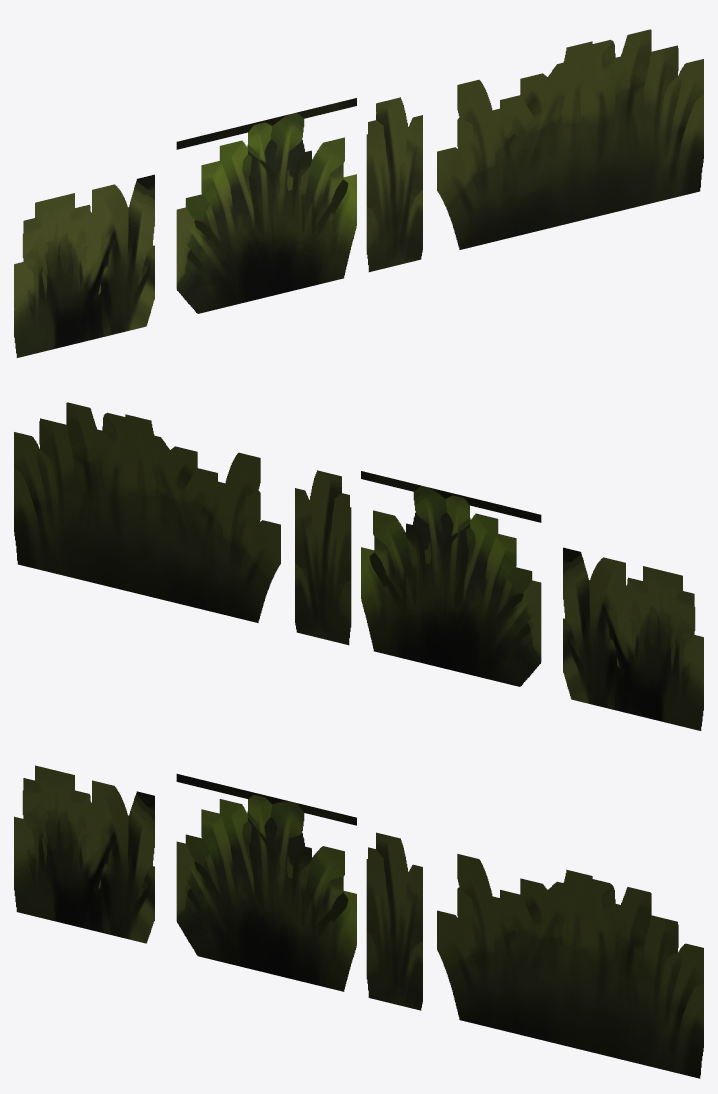
File: P_Bush08_WaterGrass.FBX
3 renders of one model, top to bottom at view 1: azimuth 30°, elevation 25°; view 2: azimuth 150°, elevation 25°; view 3: azimuth 330°, elevation 25°, orthographic.
Parts seen in each view (by area): view 1: mesh_WaterGrass_A, mesh_WaterGrass_C, mesh_WaterGrass_D, mesh_WaterGrass_B; view 2: mesh_WaterGrass_A, mesh_WaterGrass_C, mesh_WaterGrass_D, mesh_WaterGrass_B; view 3: mesh_WaterGrass_A, mesh_WaterGrass_C, mesh_WaterGrass_D, mesh_WaterGrass_B.
Part boxes in pixels (left/top/right/bottom): mesh_WaterGrass_A: left=437, top=29, right=703, bottom=249; mesh_WaterGrass_C: left=176, top=98, right=356, bottom=313; mesh_WaterGrass_D: left=14, top=174, right=154, bottom=357; mesh_WaterGrass_B: left=366, top=97, right=422, bottom=272; mesh_WaterGrass_A: left=14, top=402, right=280, bottom=622; mesh_WaterGrass_C: left=361, top=471, right=541, bottom=686; mesh_WaterGrass_D: left=563, top=547, right=703, bottom=730; mesh_WaterGrass_B: left=295, top=470, right=351, bottom=645; mesh_WaterGrass_A: left=437, top=853, right=703, bottom=1078; mesh_WaterGrass_C: left=176, top=774, right=356, bottom=991; mesh_WaterGrass_D: left=14, top=765, right=154, bottom=943; mesh_WaterGrass_B: left=366, top=832, right=422, bottom=1010.
Size of the model in its own units: 483 by 119 by 6.45e-05.
